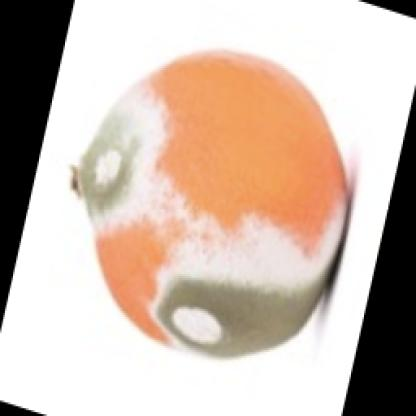rotten: (72, 51, 346, 358)
